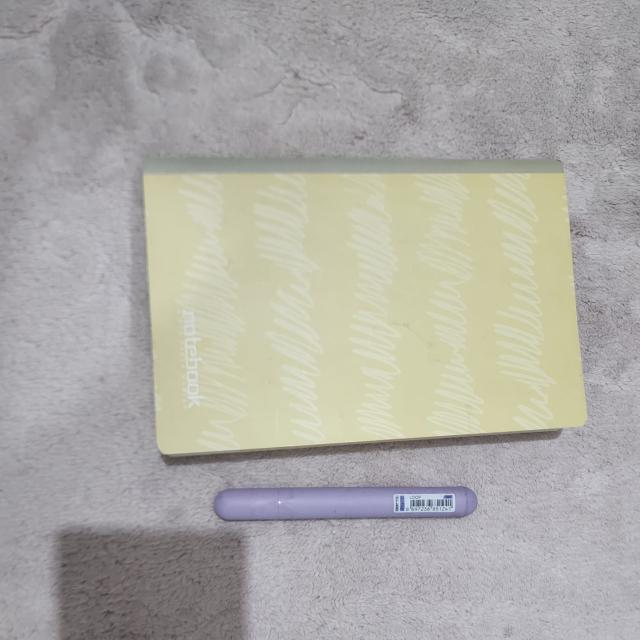defter: (143, 156, 588, 455)
kalem2: (214, 487, 479, 520)
